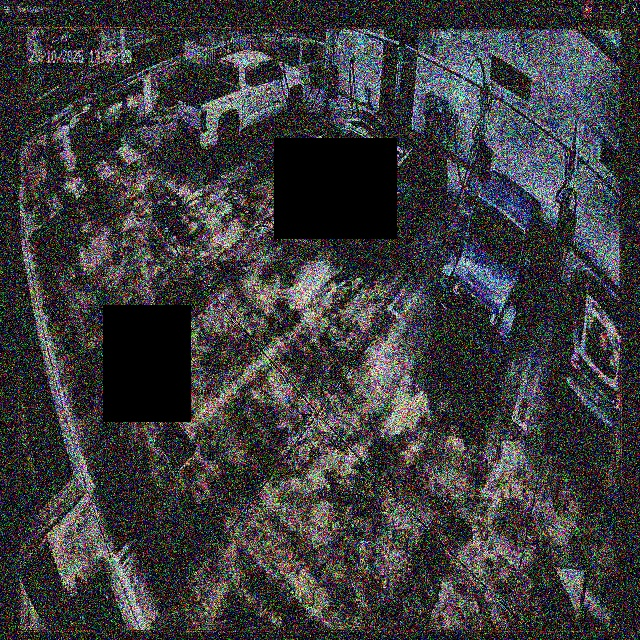Car: (436, 171, 552, 371), (335, 95, 444, 254), (176, 47, 303, 158)
